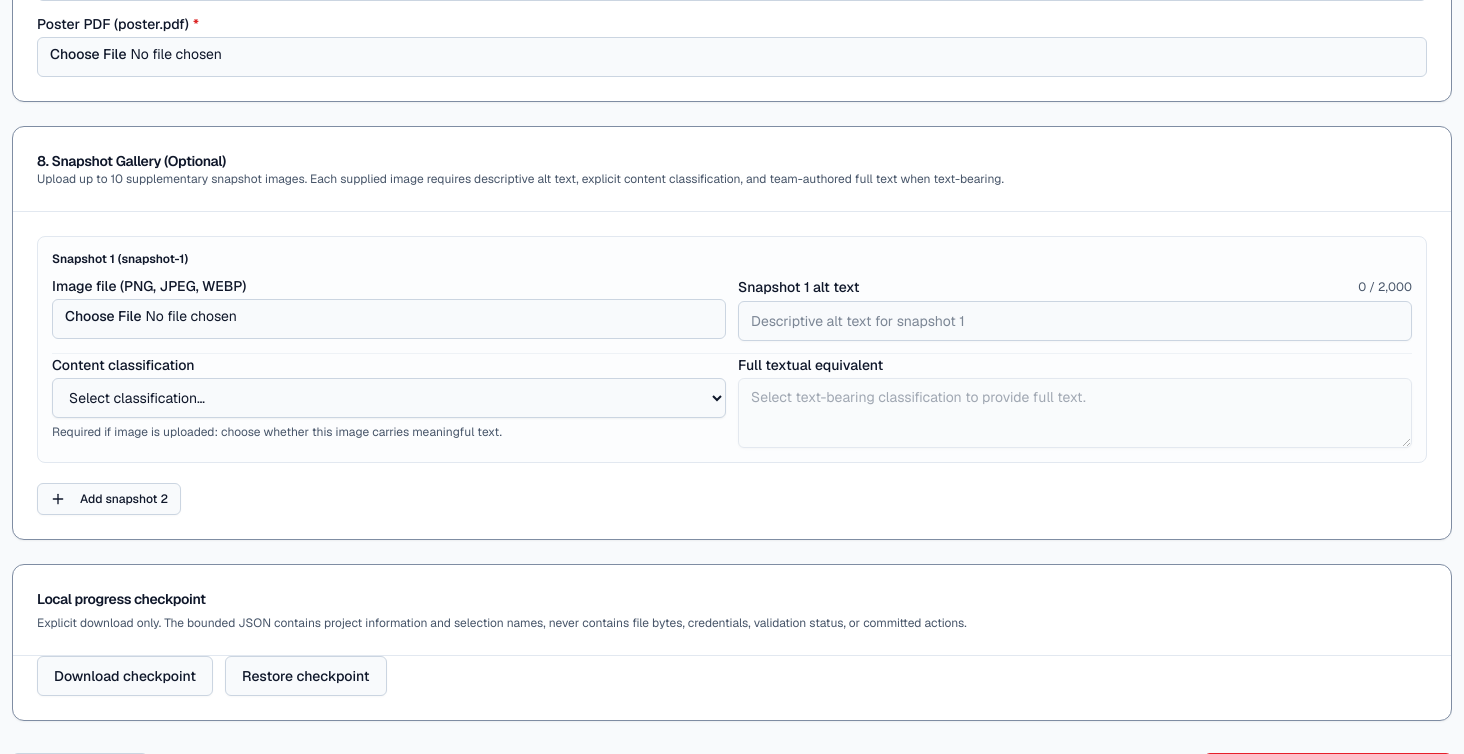
Test case: ProjectIntakeForm Component › handles MG-05 gallery classification selection
(page scrolled)
expect the text box labelled "Full textual equivalent" is disabled: met, box [738,378,1412,448]
Select text_bearing
Select "Text-bearing image (slide / screenshot / chart requiring full text)" in the dropdown labelled "Content classification" at (389, 398), box [52,378,726,418]
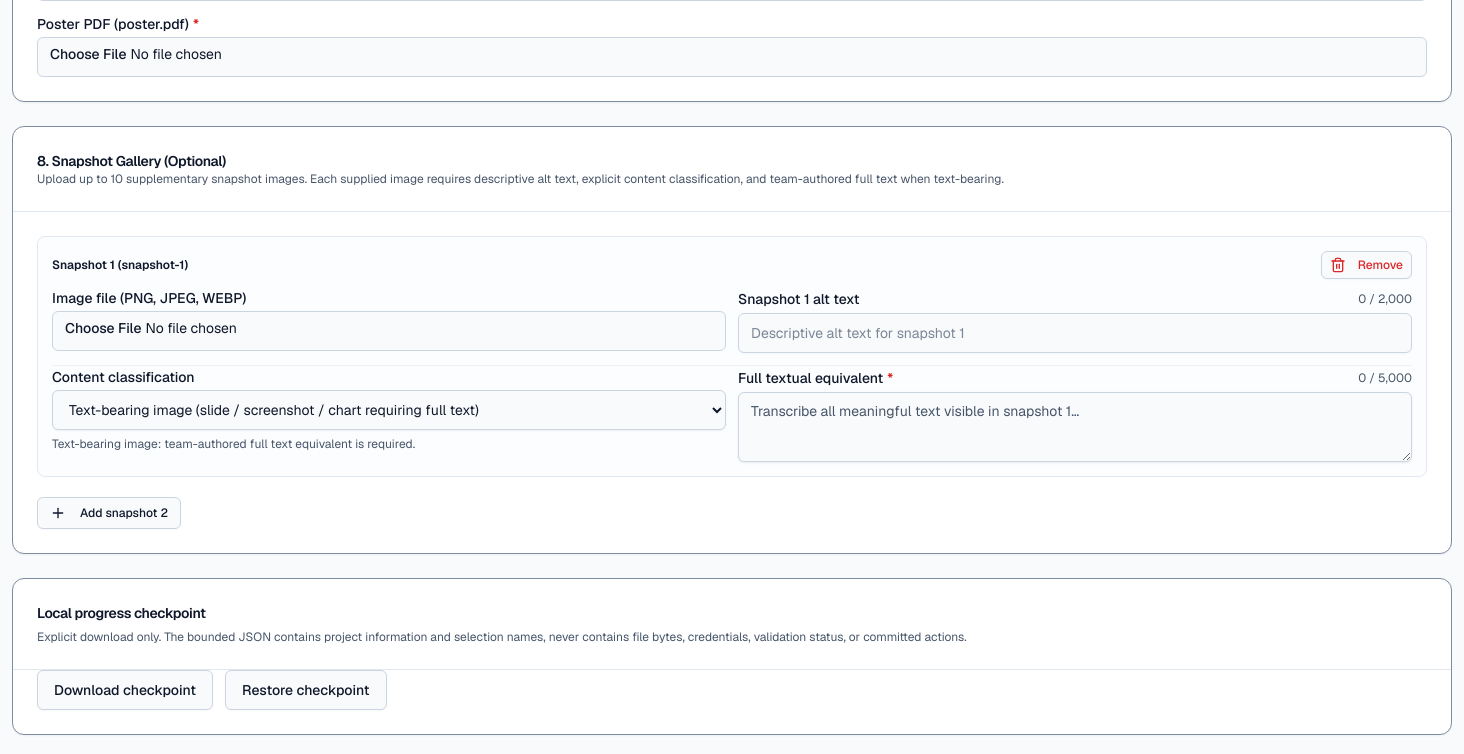
expect the text box labelled "Full textual equivalent*" is enabled: met, box [738,392,1412,462]
Select ordinary
Select "Ordinary image (photograph / diagram with no meaningful text)" in the dropdown labelled "Content classification" at (389, 410), box [52,390,726,430]
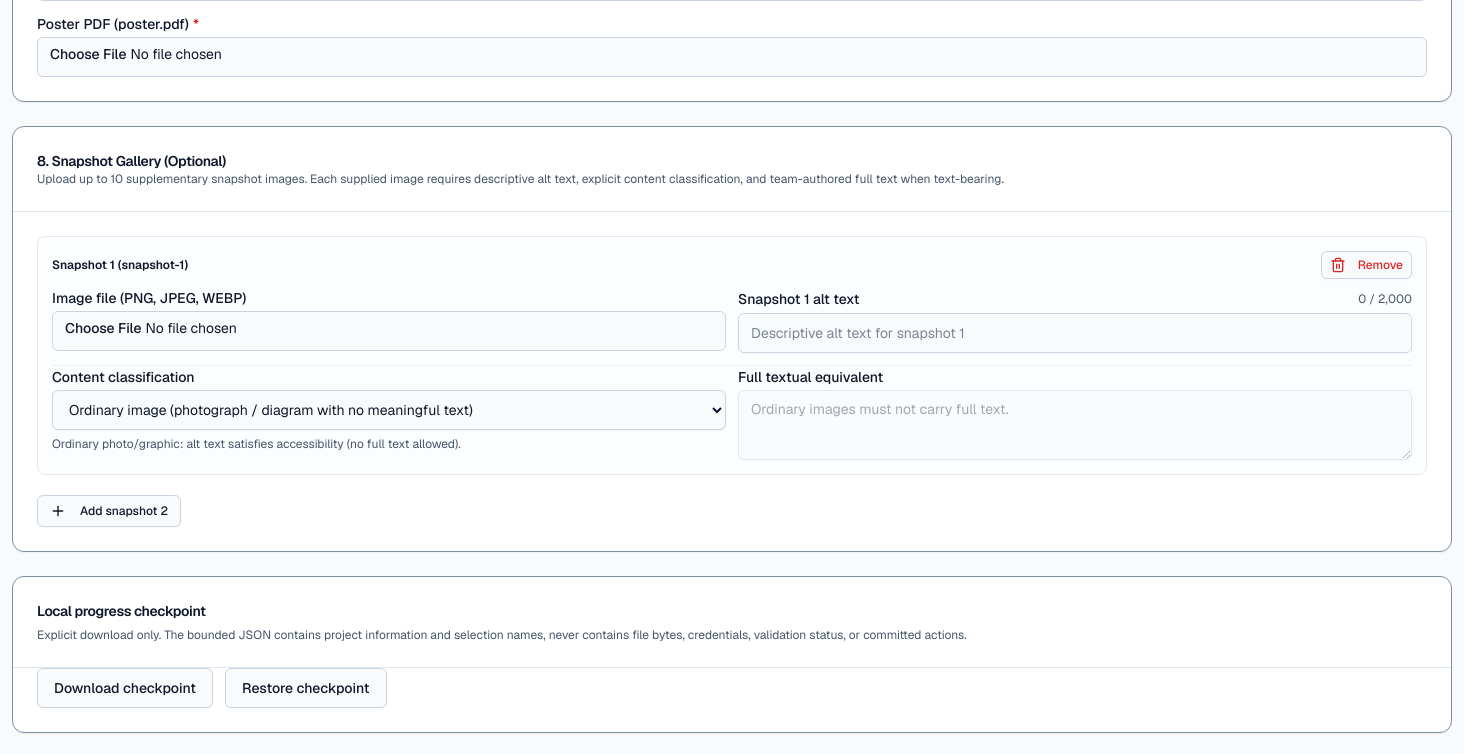
expect the text box labelled "Full textual equivalent" is disabled: met, box [738,390,1412,460]
